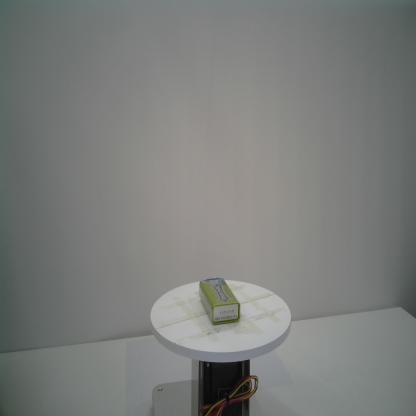Gum: (198, 275, 241, 328)
